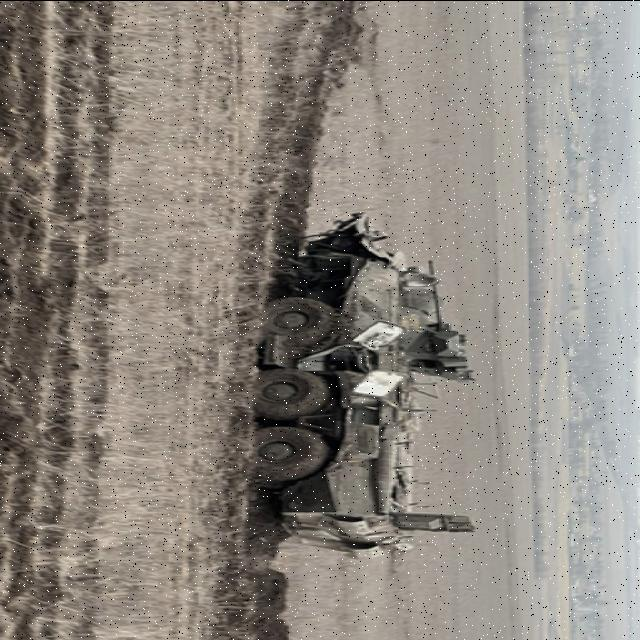APC-IFV: (251, 214, 489, 558)
